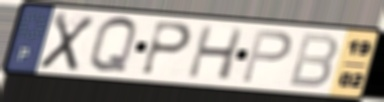B: (285, 31, 340, 90)
H: (185, 24, 247, 82)
P: (138, 19, 195, 78), (239, 27, 295, 85)
Q: (87, 14, 139, 76)
X: (36, 10, 97, 73)
